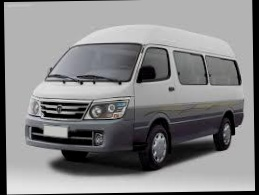van: (21, 19, 251, 166)
